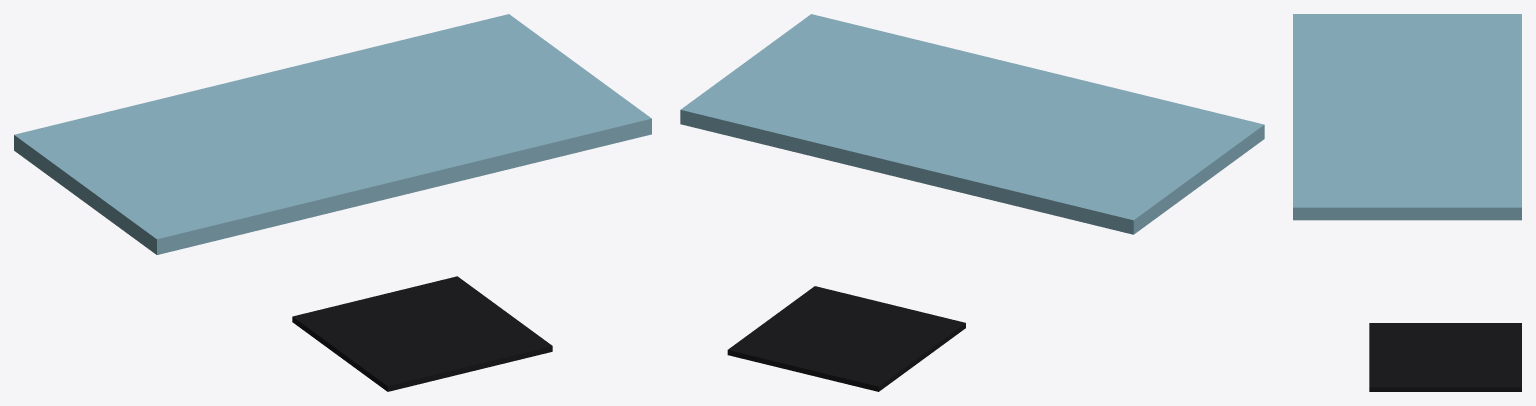
File: entorno_mural.obj
The picture shows the model from 3 angles, left to right: view 1: azimuth 30°, elevation 25°; view 2: azimuth 150°, elevation 25°; view 3: azimuth 270°, elevation 25°; orthographic projection. The views are drawn at different scales.
Parts seen in each view (by area): view 1: Export_Mural; view 2: Export_Mural; view 3: Export_Mural.
Boxes of the visible parts, left/top/right/bottom form: Export_Mural: left=14, top=14, right=651, bottom=391; Export_Mural: left=680, top=14, right=1264, bottom=391; Export_Mural: left=1293, top=14, right=1521, bottom=391.
Size of the model in its own units: 7.2 by 3.55 by 3.6.
